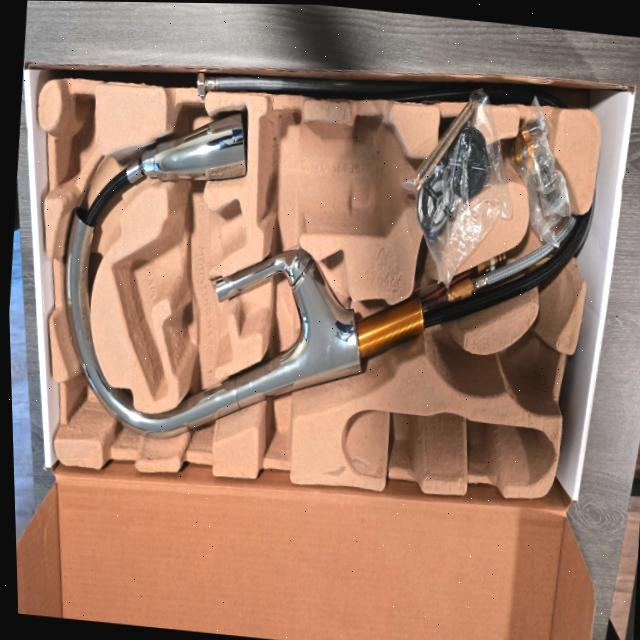1: (66, 110, 594, 434)
2m: (112, 200, 244, 397)
3m: (258, 115, 427, 234)
4m: (343, 415, 554, 486)
5m: (503, 328, 550, 395)
6: (506, 94, 571, 248)
7: (404, 89, 514, 288)
